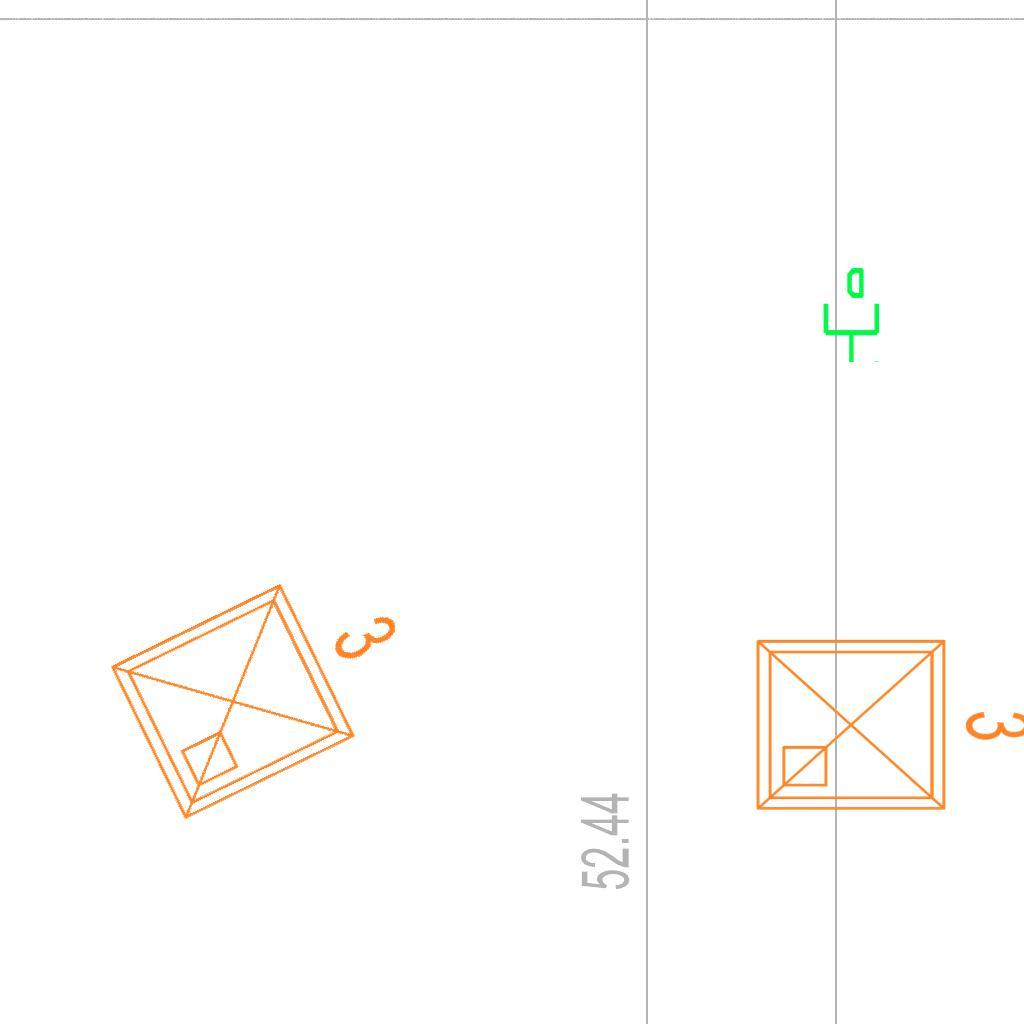Datenanschluss_einfach: (815, 265, 884, 365)
Einbaudownlights_LED_Konferenzraeume: (87, 520, 449, 840), (742, 617, 1024, 825)
